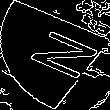N_SE: (11, 24, 99, 86)
